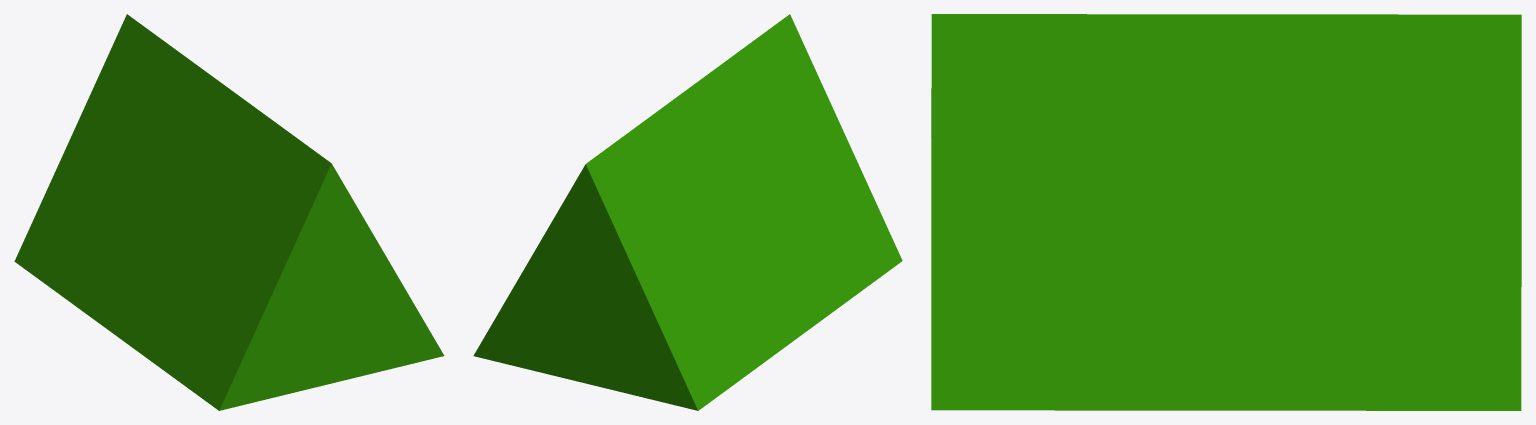
File: prisma.glb
3 views of the same model, side by side, from view 1: azimuth 30°, elevation 25°; view 2: azimuth 150°, elevation 25°; view 3: azimuth 270°, elevation 25° (orthographic). The views are drawn at different scales.
Visible parts, largest first — view 1: Cone; view 2: Cone; view 3: Cone.
Boxes of the visible parts, x1,y1,x2,y2 form: Cone: (14, 14, 444, 410); Cone: (473, 14, 902, 410); Cone: (931, 14, 1521, 410).
Bounding box in the file's own units: 2.24 × 2.09 × 3.52.
